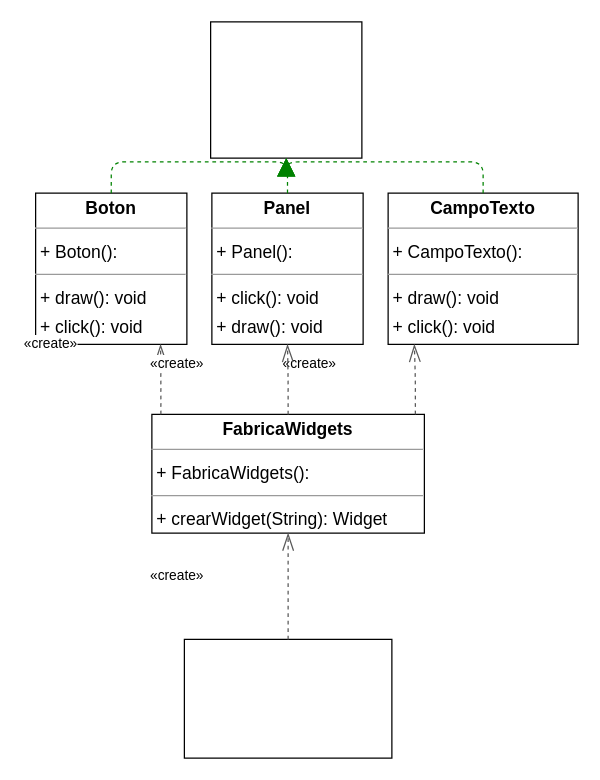
The diagram is 600 pixels wide and 780 high, and some of its shapes have lost their labels. The shapes that lost their labels are listed below. From the top down, each one's centre as x and y in pixels, then its label:
(x=285, y=89): <<interface>> Widget + click(): void + draw(): void
(x=287, y=698): Main + Main(): + main(String[]): void
